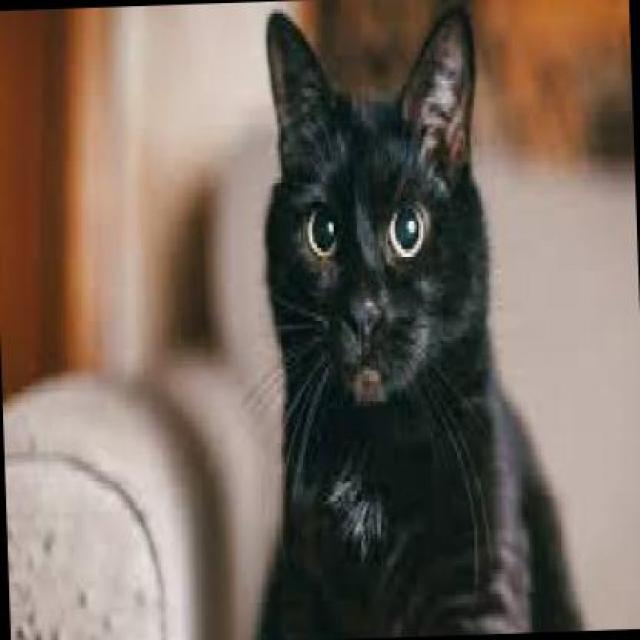animals: (235, 0, 575, 638)
